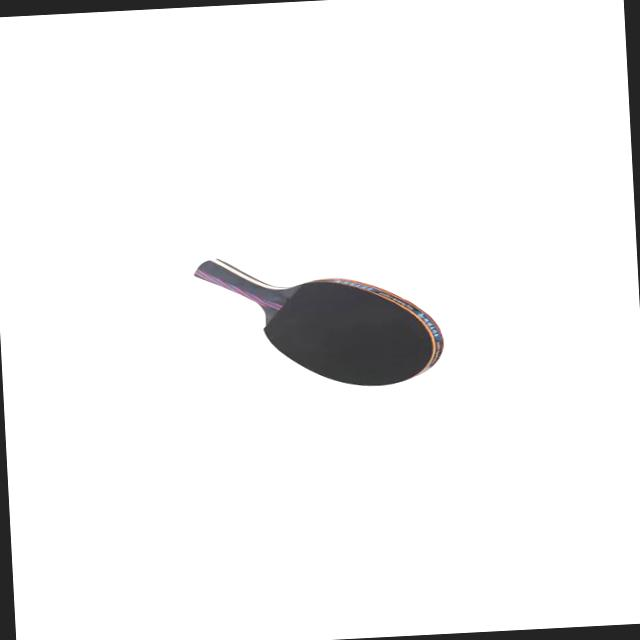TT Racket: (209, 196, 512, 452)
